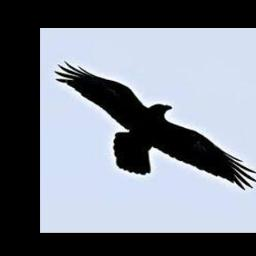Crow: (55, 61, 256, 191)
